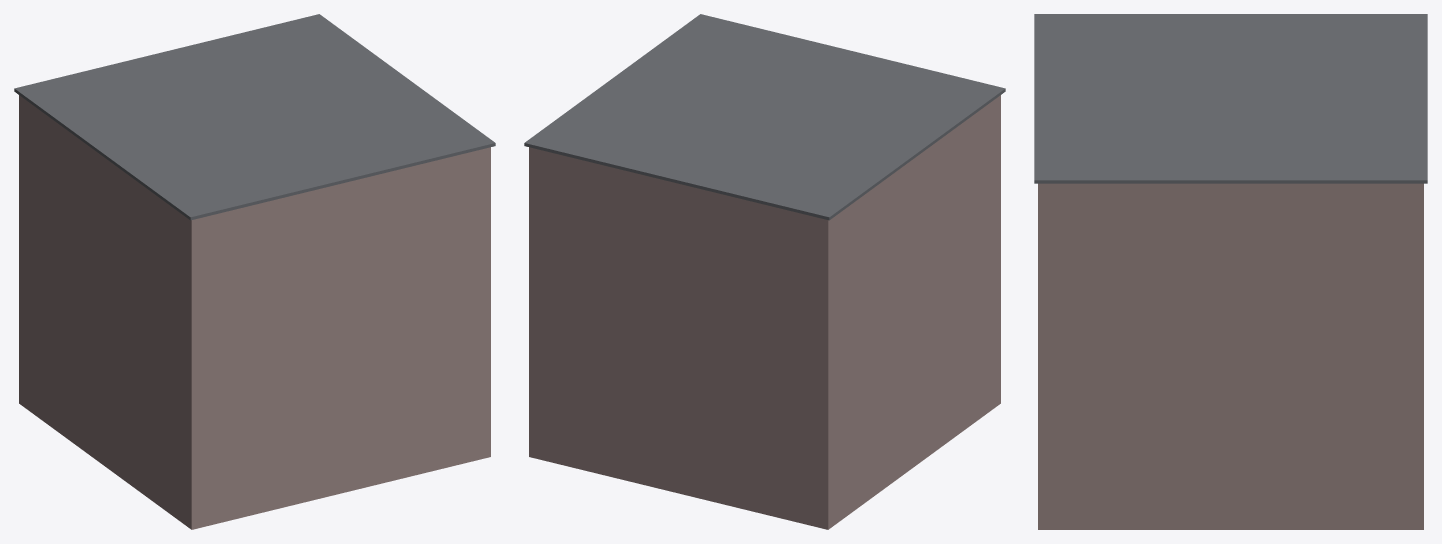
Rendered from block_brick.fbx.
3 views of the same model, side by side, from view 1: azimuth 30°, elevation 25°; view 2: azimuth 150°, elevation 25°; view 3: azimuth 270°, elevation 25° (orthographic). The views are drawn at different scales.
Visible parts, largest first — view 1: block_brick; view 2: block_brick; view 3: block_brick.
Part boxes in pixels (x1,y1,x2,y2): block_brick: [14, 14, 495, 529]; block_brick: [524, 14, 1005, 529]; block_brick: [1034, 14, 1427, 529].
Bounding box in the file's own units: 1.02 × 1 × 1.02.
